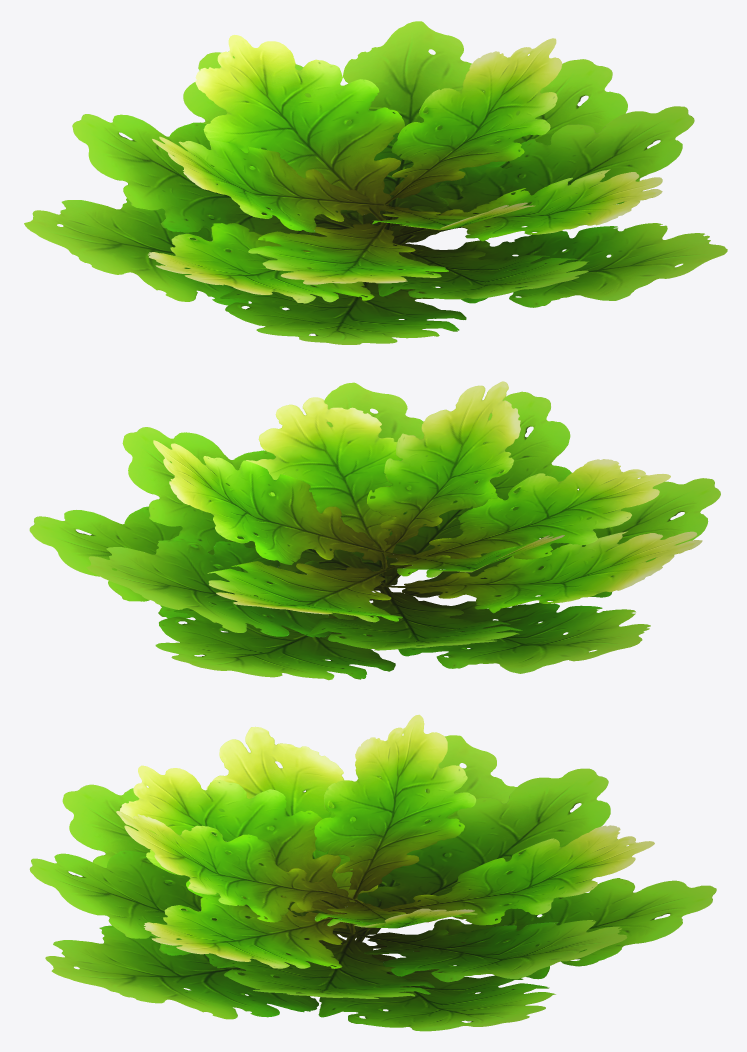
File: Leaf_cluster3.fbx
3 renders of one model, top to bottom at view 1: azimuth 30°, elevation 25°; view 2: azimuth 150°, elevation 25°; view 3: azimuth 270°, elevation 25°, orthographic. The views are drawn at different scales.
Visible parts, largest first — view 1: pPlane6 (×4), pPlane4 (×4), pPlane5 (×4), pPlane9 (×2), pPlane8 (×2); view 2: pPlane4 (×4), pPlane5 (×4), pPlane6 (×4), pPlane8 (×2), pPlane9 (×2); view 3: pPlane5 (×4), pPlane6 (×4), pPlane4 (×4), pPlane8 (×2), pPlane9 (×2).
Boxes of the visible parts, x1=… form: pPlane6 (×4): x1=148, y1=35, x2=466, y2=344; pPlane4 (×4): x1=24, y1=38, x2=662, y2=305; pPlane5 (×4): x1=248, y1=202, x2=727, y2=307; pPlane9 (×2): x1=391, y1=59, x2=694, y2=244; pPlane8 (×2): x1=183, y1=21, x2=505, y2=230; pPlane4 (×4): x1=153, y1=397, x2=650, y2=673; pPlane5 (×4): x1=324, y1=381, x2=670, y2=593; pPlane6 (×4): x1=207, y1=478, x2=720, y2=622; pPlane8 (×2): x1=86, y1=540, x2=395, y2=680; pPlane9 (×2): x1=29, y1=427, x2=385, y2=631; pPlane5 (×4): x1=29, y1=765, x2=353, y2=1019; pPlane6 (×4): x1=62, y1=714, x2=654, y2=945; pPlane4 (×4): x1=144, y1=735, x2=610, y2=968; pPlane8 (×2): x1=355, y1=878, x2=716, y2=982; pPlane9 (×2): x1=217, y1=934, x2=555, y2=1031.
Size of the model in its own units: 91.3 by 20.12 by 93.51.
Materials: 4 (4 with a texture image).
